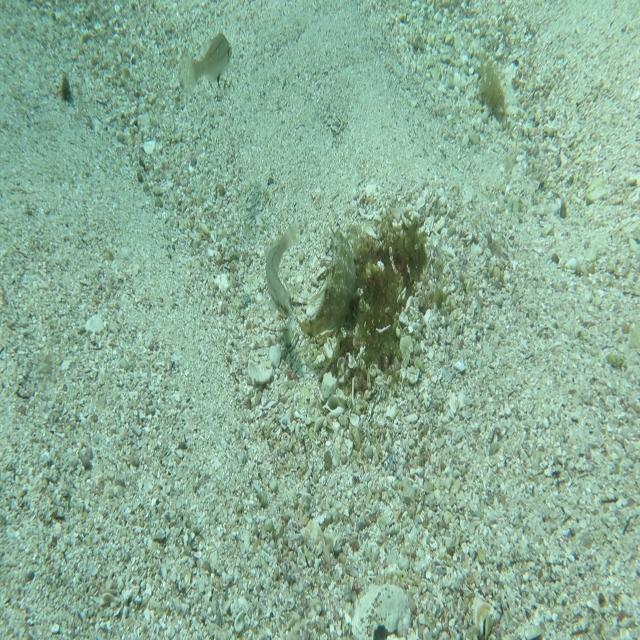BEND: (292, 221, 360, 342)
female: (257, 219, 302, 319), (180, 30, 233, 100)
nest: (304, 192, 440, 412)
